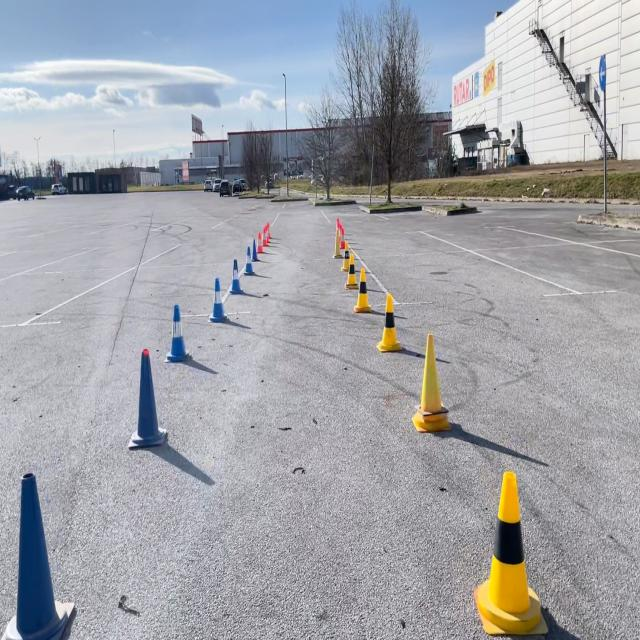blue_cone: (0, 466, 72, 640), (126, 345, 168, 448), (165, 303, 191, 362), (208, 276, 228, 322), (227, 257, 244, 294), (243, 244, 254, 278), (250, 241, 259, 269)
orange_cone: (253, 229, 262, 256), (333, 216, 342, 241), (263, 222, 271, 243), (333, 224, 339, 250)
yellow_cone: (472, 467, 544, 636), (411, 329, 452, 432), (375, 292, 402, 352), (353, 266, 372, 314), (342, 250, 360, 289), (340, 236, 353, 275), (331, 223, 343, 258)
